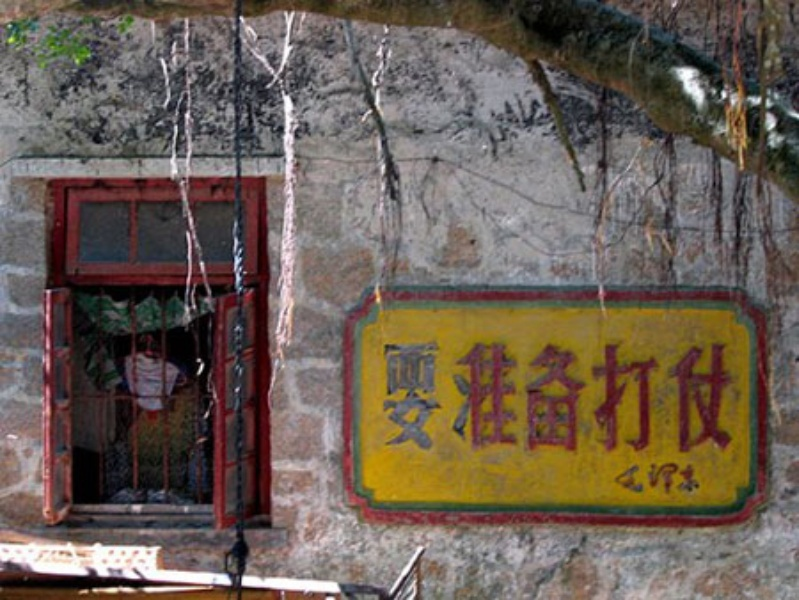text: (721, 341, 737, 453), (385, 341, 400, 453), (401, 341, 416, 453), (417, 341, 432, 453), (433, 341, 448, 453), (449, 341, 464, 453), (465, 341, 480, 453), (481, 341, 496, 453), (497, 341, 512, 453), (513, 341, 528, 453), (529, 341, 544, 453), (545, 341, 560, 453), (561, 341, 576, 453), (577, 341, 592, 453), (593, 341, 608, 453), (609, 341, 624, 453), (625, 341, 640, 453), (641, 341, 656, 453), (657, 341, 672, 453), (673, 341, 688, 453), (689, 341, 704, 453), (705, 341, 720, 453), (379, 341, 384, 453), (625, 462, 640, 496), (641, 462, 656, 496), (657, 462, 672, 496), (673, 462, 688, 496), (689, 462, 702, 496), (615, 462, 624, 496)
